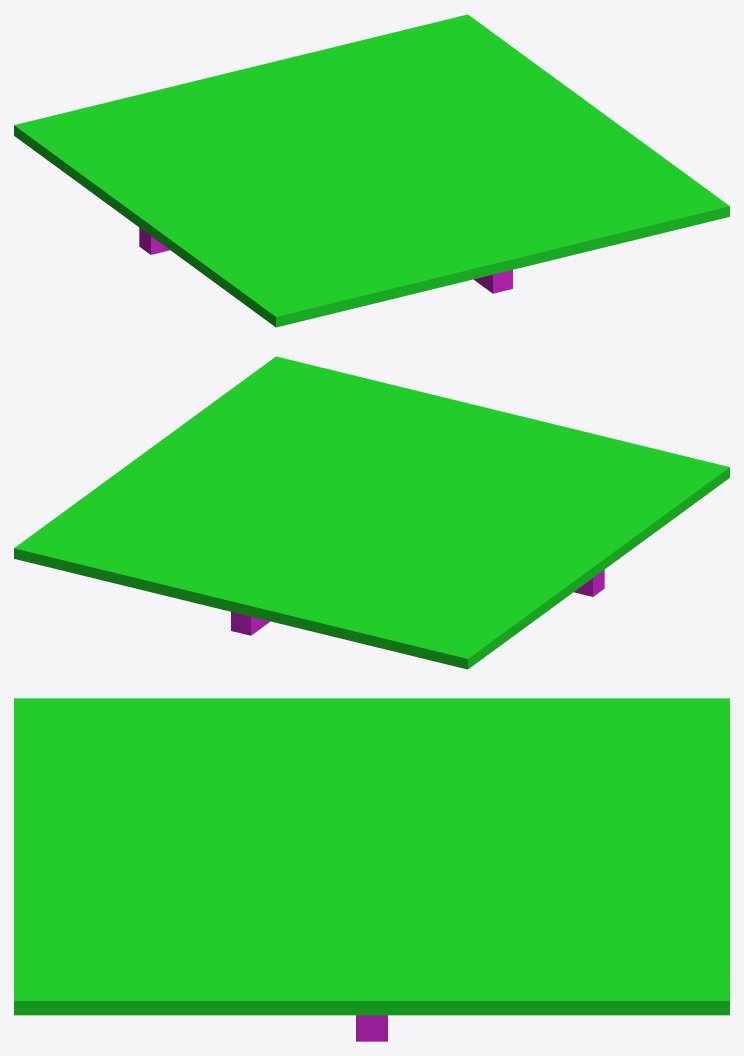
The model's file is Stairs_06_Platform_Cross.fbx.
The picture shows the model from 3 angles, top to bottom: view 1: azimuth 30°, elevation 25°; view 2: azimuth 150°, elevation 25°; view 3: azimuth 270°, elevation 25°; orthographic projection. The views are drawn at different scales.
Parts seen in each view (by area): view 1: Stairs_06_Platform_Cross; view 2: Stairs_06_Platform_Cross; view 3: Stairs_06_Platform_Cross.
Boxes of the visible parts, box(x1,y1,x2,y2) form: Stairs_06_Platform_Cross: box(14, 14, 729, 327); Stairs_06_Platform_Cross: box(14, 356, 729, 669); Stairs_06_Platform_Cross: box(14, 698, 729, 1041).
Size of the model in its own units: 229 by 14.29 by 229.
